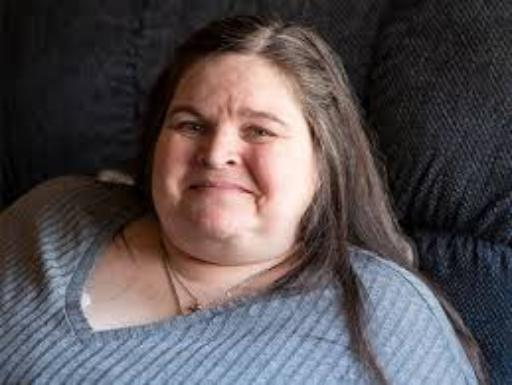left_eye: (243, 127, 283, 143)
left_lip_corner: (240, 185, 259, 201)
right_eye: (173, 121, 208, 136)
right_lip_corner: (186, 181, 200, 195)
